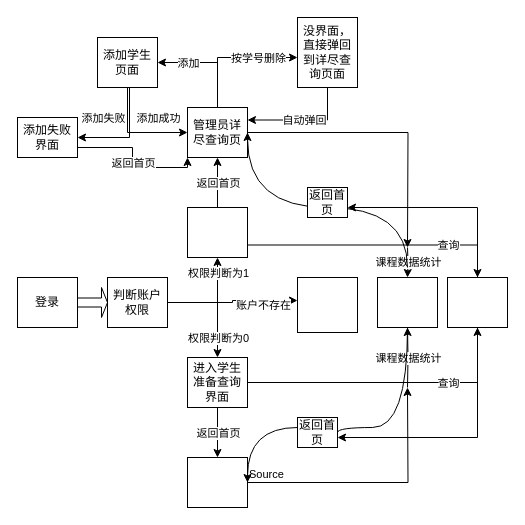
Image size: 525x525. Some labels were removed from this diagram. The shapes that lost their labels are listed below. From the top down, each one's centre as x and y in pixels, then its label:
At (x=217, y=232): "进入管理员准备查询界面".
At (x=327, y=304): "登录错误界面".
At (x=407, y=302): "课程数据统计界面".
At (x=477, y=302): "查询界面".
At (x=217, y=482): "学生详尽查询页".
